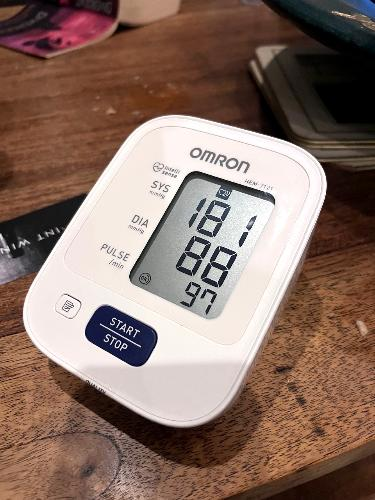bpm: (125, 154, 282, 326)
